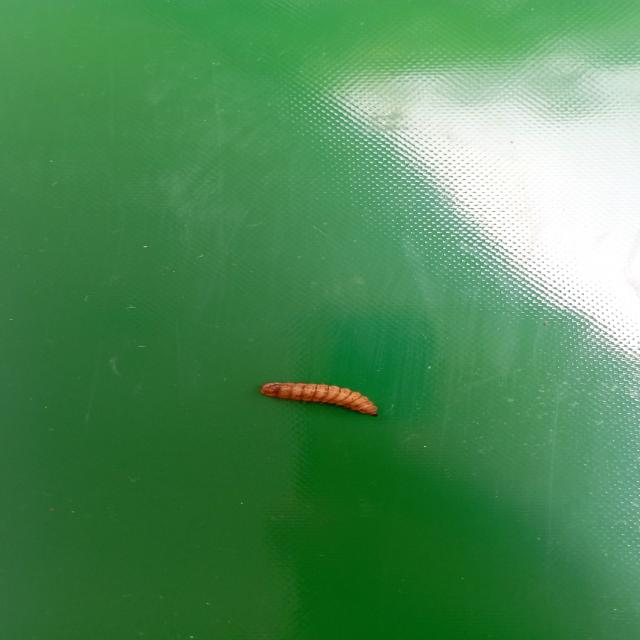Maggot: (258, 382, 378, 418)
